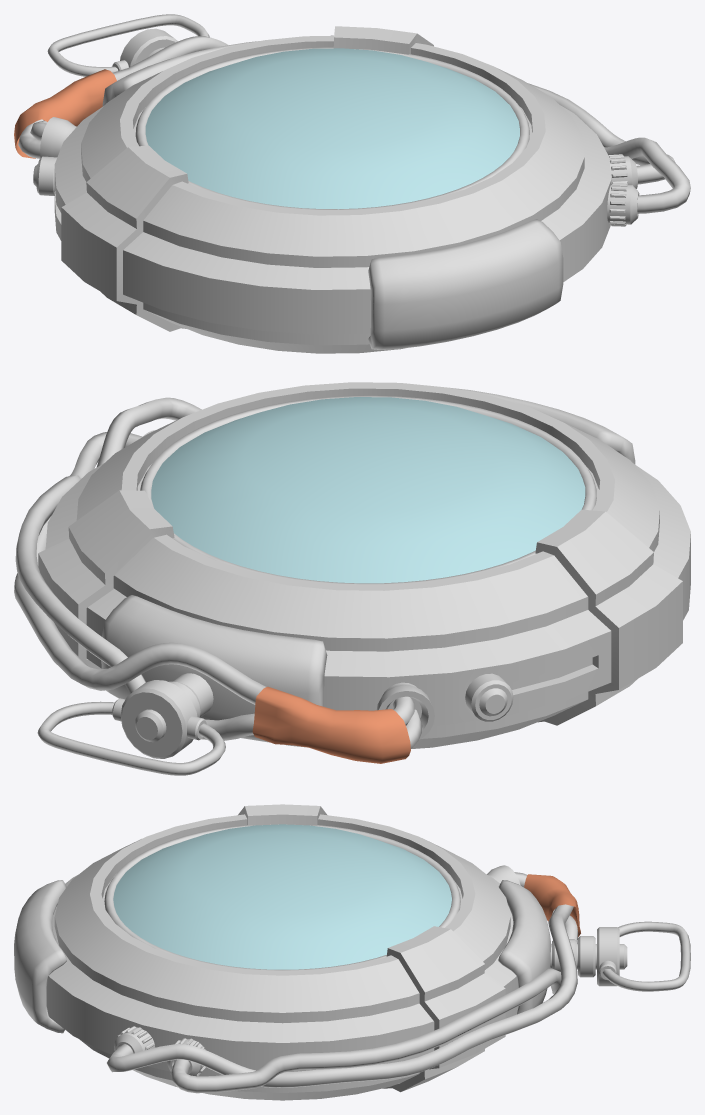
Rendered from Fantasy_compass.fbx.
3 views of the same model, one above another, from view 1: azimuth 30°, elevation 25°; view 2: azimuth 150°, elevation 25°; view 3: azimuth 270°, elevation 25° (orthographic). The views are drawn at different scales.
Parts seen in each view (by area): view 1: Compass, Circle.001, Cylinder.030, Cylinder.032, BezierCurve.002, Cylinder.026, Cylinder.024, BezierCircle.001, Cylinder.031, BezierCurve.003, Cylinder.029, Cylinder.027 (+4 smaller); view 2: Compass, Circle.001, Cylinder.032, Cylinder.029, BezierCurve.002, Cylinder.031, Cylinder.024, BezierCurve.003, Cylinder.026, BezierCircle.001, Cylinder.035, Cylinder.022 (+4 smaller); view 3: Compass, Circle.001, BezierCurve.002, Cylinder.031, BezierCurve.003, Cylinder.030, Cylinder.029, Cylinder.026, BezierCircle.001, Cylinder.032, Cylinder.024, Cylinder.035 (+2 smaller).
Boxes of the visible parts, x1=… form: Compass: x1=54, y1=36, x2=611, y2=353; Circle.001: x1=145, y1=48, x2=519, y2=209; Cylinder.030: x1=368, y1=219, x2=563, y2=349; Cylinder.032: x1=61, y1=145, x2=188, y2=331; BezierCurve.002: x1=18, y1=36, x2=690, y2=213; Cylinder.026: x1=135, y1=47, x2=529, y2=209; Cylinder.024: x1=14, y1=69, x2=116, y2=158; BezierCircle.001: x1=47, y1=14, x2=209, y2=76; Cylinder.031: x1=333, y1=26, x2=433, y2=54; BezierCurve.003: x1=30, y1=35, x2=675, y2=184; Cylinder.029: x1=102, y1=41, x2=258, y2=106; Cylinder.027: x1=607, y1=182, x2=639, y2=226; Compass: x1=45, y1=382, x2=690, y2=748; Circle.001: x1=151, y1=397, x2=585, y2=583; Cylinder.032: x1=535, y1=509, x2=682, y2=725; Cylinder.029: x1=101, y1=595, x2=327, y2=742; BezierCurve.002: x1=14, y1=397, x2=422, y2=748; Cylinder.031: x1=38, y1=490, x2=174, y2=669; Cylinder.024: x1=252, y1=686, x2=410, y2=763; BezierCurve.003: x1=15, y1=432, x2=414, y2=740; Cylinder.026: x1=140, y1=395, x2=596, y2=584; BezierCircle.001: x1=37, y1=701, x2=225, y2=775; Cylinder.035: x1=120, y1=680, x2=197, y2=758; Cylinder.022: x1=465, y1=673, x2=513, y2=721; Compass: x1=46, y1=814, x2=518, y2=1100; Circle.001: x1=113, y1=824, x2=451, y2=969; BezierCurve.002: x1=107, y1=904, x2=577, y2=1087; Cylinder.031: x1=383, y1=926, x2=505, y2=1092; BezierCurve.003: x1=170, y1=872, x2=578, y2=1093; Cylinder.030: x1=14, y1=880, x2=66, y2=1033; Cylinder.029: x1=498, y1=880, x2=551, y2=1014; Cylinder.026: x1=104, y1=824, x2=460, y2=970; BezierCircle.001: x1=602, y1=921, x2=690, y2=991; Cylinder.032: x1=238, y1=804, x2=327, y2=825; Cylinder.024: x1=524, y1=874, x2=580, y2=936; Cylinder.035: x1=597, y1=927, x2=619, y2=986.
Size of the model in its own units: 133 by 47.58 by 160.
